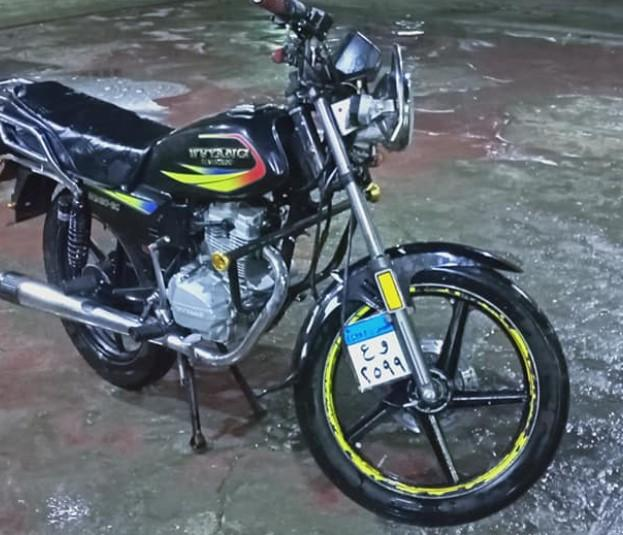License Plate: (340, 309, 421, 391)
